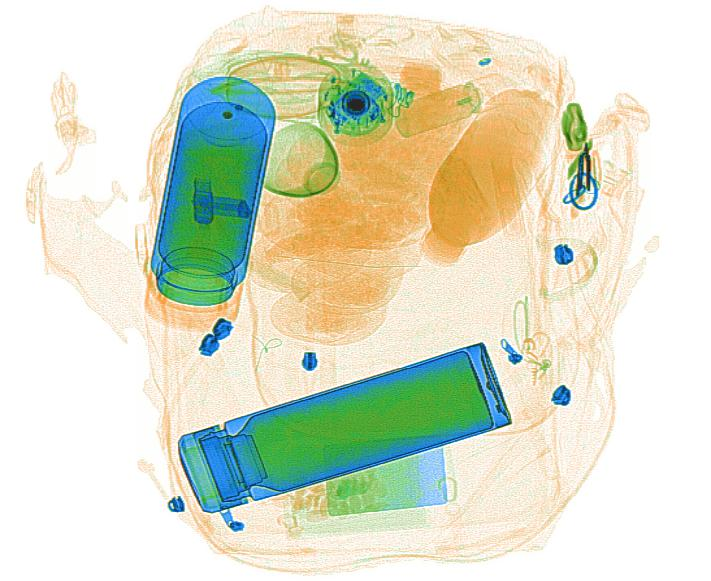USBFlashDisk: (189, 176, 251, 224)
pressure: (392, 80, 492, 138)
